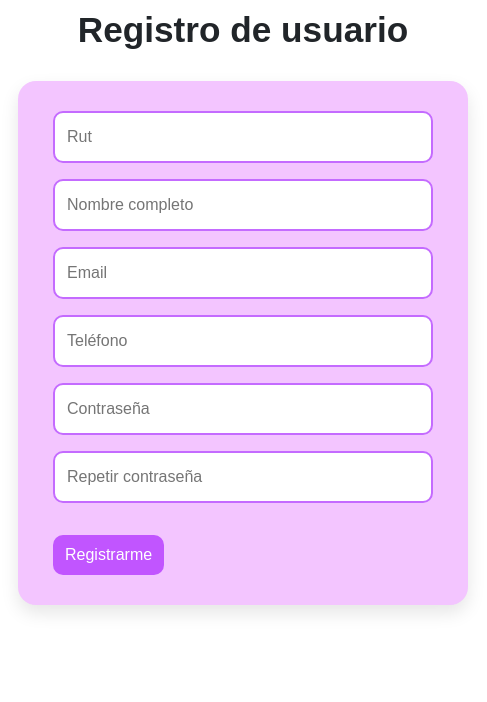
it: muestra mensaje de error cuando addDoc falla
Type "11.111.111-1" into the field with placeholder "Rut" at (243, 137), box x1=53 y1=111 x2=433 y2=163
Type "Juan Pérez" into the field with placeholder "Nombre completo" at (243, 205), box x1=53 y1=179 x2=433 y2=231
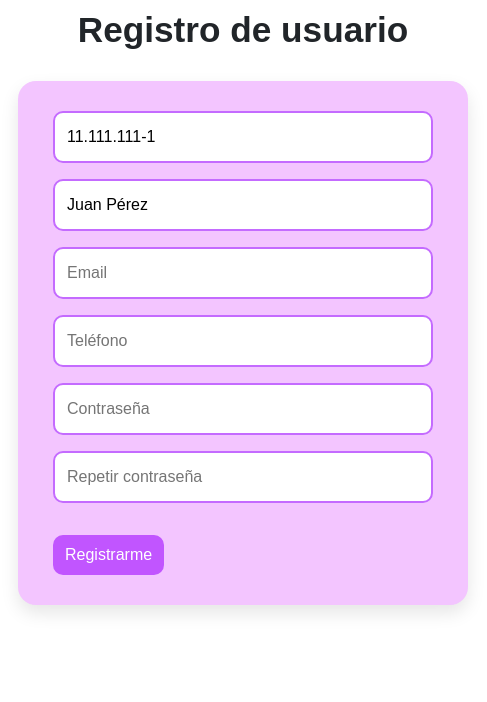
Type "juan@example.com" into the field with placeholder "Email" at (243, 273), box x1=53 y1=247 x2=433 y2=299
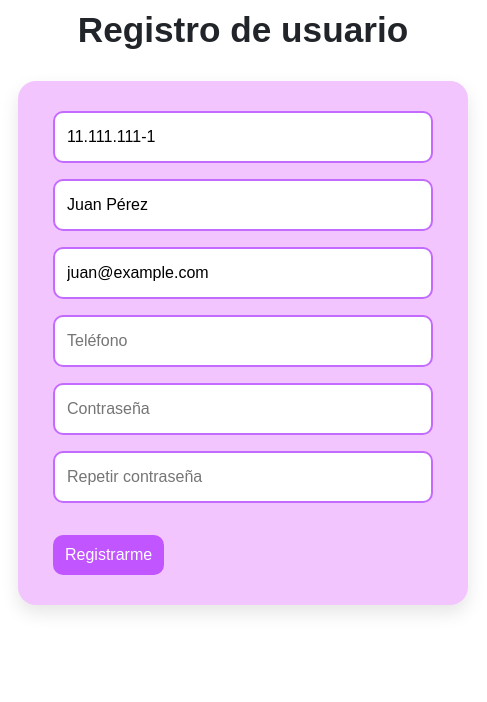
Type "987654321" into the field with placeholder "Teléfono" at (243, 341), box x1=53 y1=315 x2=433 y2=367
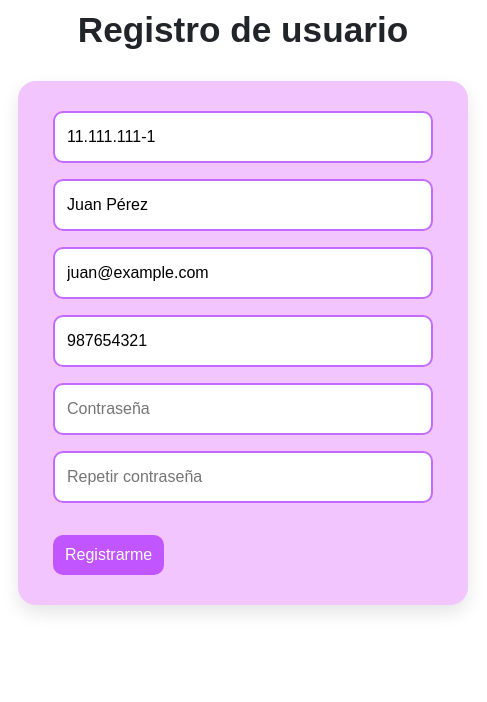
Type "clave123" into the password field with placeholder "Contraseña" at (243, 409), box x1=53 y1=383 x2=433 y2=435
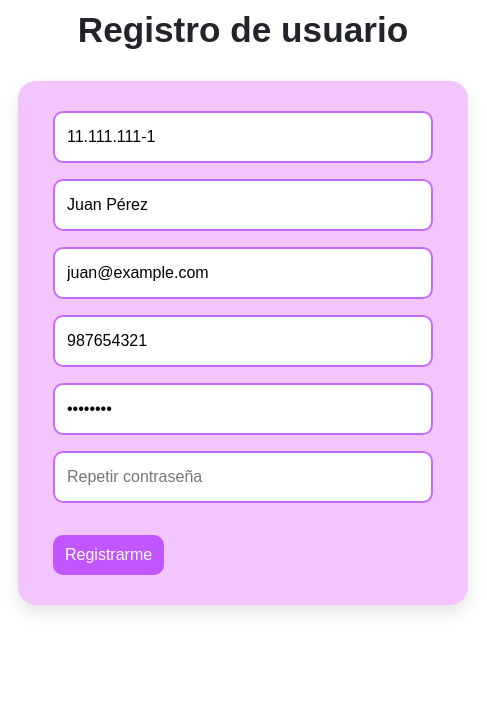
Type "clave123" into the password field with placeholder "Repetir contraseña" at (243, 477), box x1=53 y1=451 x2=433 y2=503
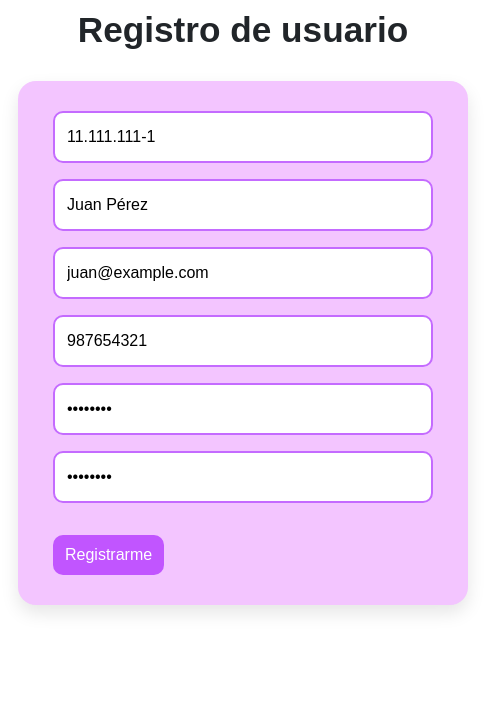
Submit the form from the button "Registrarme", box x1=53 y1=535 x2=164 y2=575
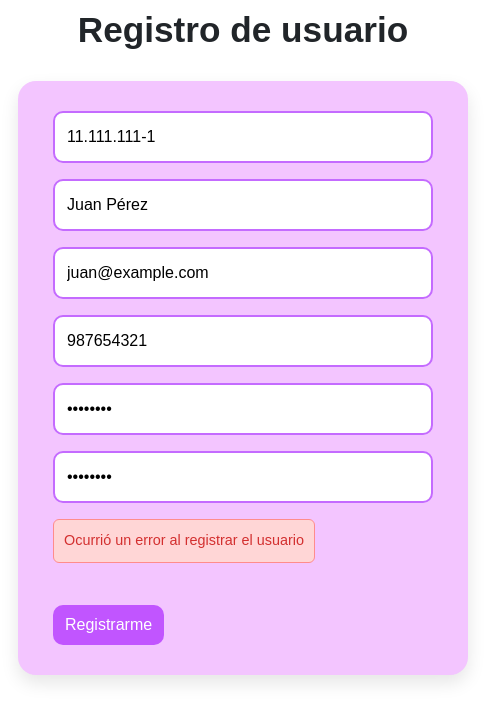
expect the text "Ocurrió un error al registrar el usuario" is shown: met, box x1=53 y1=519 x2=315 y2=563
